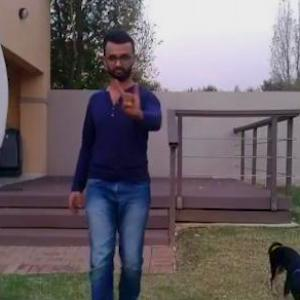takeoff-hand: (112, 71, 146, 122)
